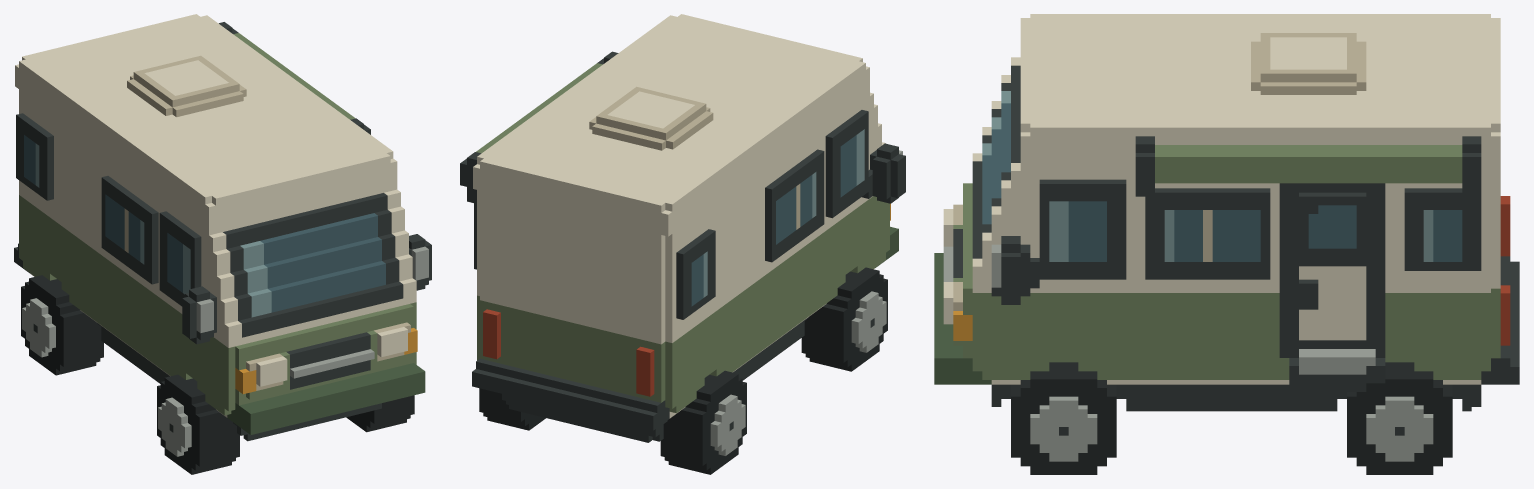
Rendered from camper_van.glb.
3 renders of one model, left to right at view 1: azimuth 30°, elevation 25°; view 2: azimuth 150°, elevation 25°; view 3: azimuth 270°, elevation 25°, orthographic. The views are drawn at different scales.
Parts seen in each view (by area): view 1: camper_van; view 2: camper_van; view 3: camper_van.
Part boxes in pixels (x1,y1,x2,y2): camper_van: (14, 14, 431, 474); camper_van: (460, 14, 905, 474); camper_van: (934, 14, 1519, 474).
Size of the model in its own units: 3.6 by 4.1 by 6.1.
